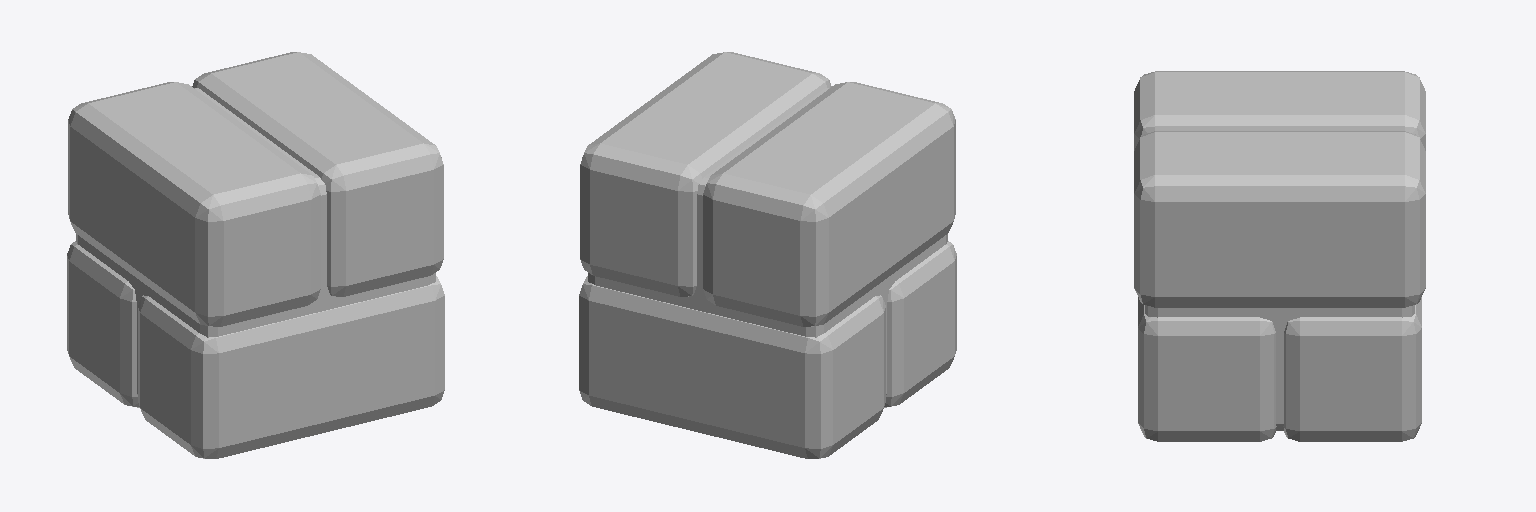
Rendered from Block_Brick.obj.
3 views of the same model, side by side, from view 1: azimuth 30°, elevation 25°; view 2: azimuth 150°, elevation 25°; view 3: azimuth 270°, elevation 25° (orthographic).
Visible parts, largest first — view 1: Block_Brick_Cube.012; view 2: Block_Brick_Cube.012; view 3: Block_Brick_Cube.012.
Part boxes in pixels (left/top/right/bottom): Block_Brick_Cube.012: left=67, top=52, right=444, bottom=458; Block_Brick_Cube.012: left=579, top=52, right=956, bottom=458; Block_Brick_Cube.012: left=1134, top=71, right=1425, bottom=441.
Bounding box in the file's own units: 1.97 × 1.98 × 1.97.